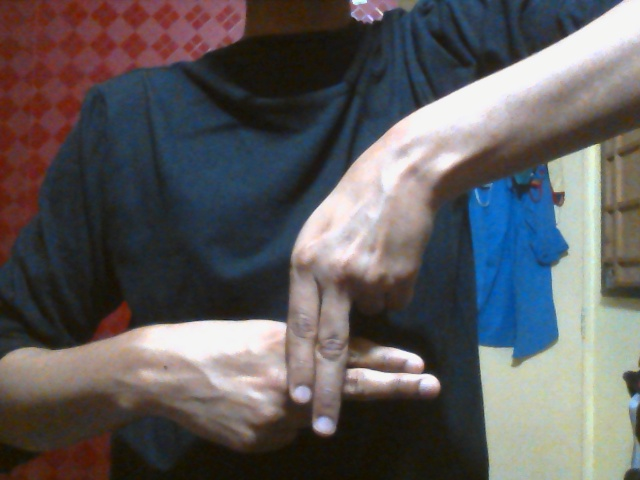F: (159, 174, 441, 455)
